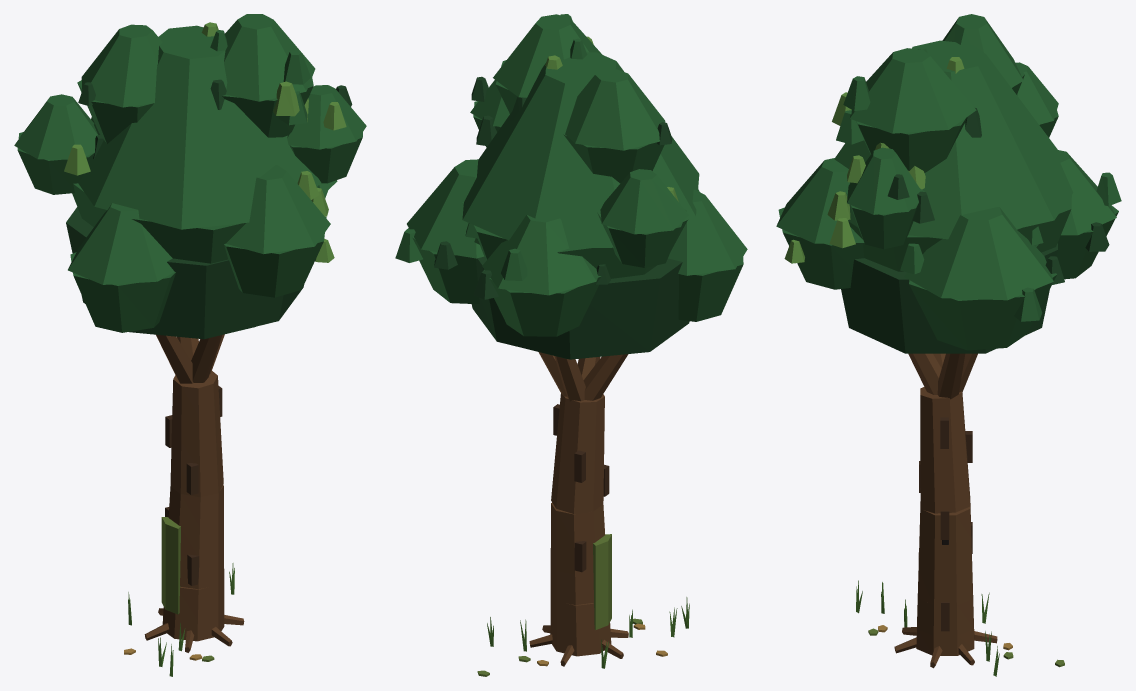
File: tree_oak.obj
The picture shows the model from 3 angles, left to right: view 1: azimuth 30°, elevation 25°; view 2: azimuth 150°, elevation 25°; view 3: azimuth 270°, elevation 25°; orthographic projection. The views are drawn at different scales.
Parts seen in each view (by area): view 1: Crown, Trunk, Crown.Under, Clump, Branch, Moss, Bark.Ridge, Trunk.Stump, Root, Grass; view 2: Crown, Trunk, Crown.Under, Clump, Branch, Moss, Trunk.Stump, Bark.Ridge, Root, Grass; view 3: Crown, Trunk, Clump, Crown.Under, Branch, Bark.Ridge, Trunk.Stump, Root, Grass.
Part boxes in pixels (x1,y1,x2,y2): Crown: (14,14,366,332); Trunk: (163,371,224,620); Crown.Under: (66,207,303,339); Clump: (64,22,352,262); Branch: (156,334,224,383); Moss: (161,517,180,614); Bark.Ridge: (165,385,222,585); Trunk.Stump: (162,606,224,641); Root: (144,608,244,652); Grass: (128,563,234,676); Crown: (407,14,747,358); Trunk: (550,393,610,635); Crown.Under: (471,256,689,359); Clump: (395,14,678,299); Branch: (538,352,628,401); Moss: (593,534,611,629); Trunk.Stump: (550,622,611,656); Bark.Ridge: (553,404,609,572); Root: (529,625,628,666); Grass: (487,597,689,668); Crown: (776,14,1118,350); Trunk: (917,387,973,635); Clump: (784,46,1121,321); Crown.Under: (841,243,1057,353); Branch: (908,353,977,399); Bark.Ridge: (918,417,972,631); Trunk.Stump: (916,628,974,655); Root: (894,627,997,668); Grass: (856,580,999,676).
Bounding box in the file's own units: 7.5 × 15.08 × 7.7.
